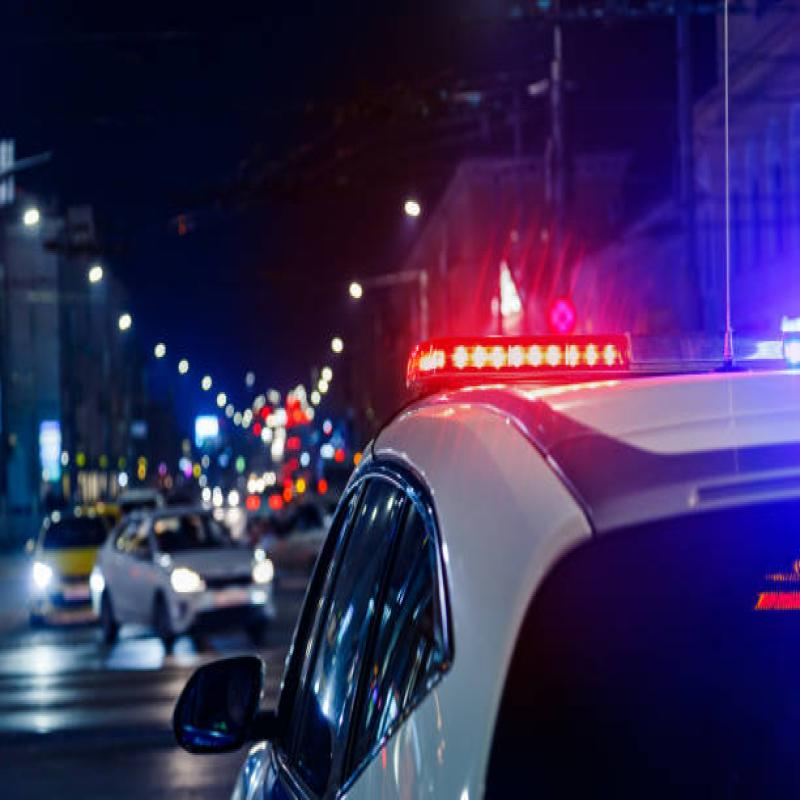AmbulanceSiren: (391, 297, 632, 409)
